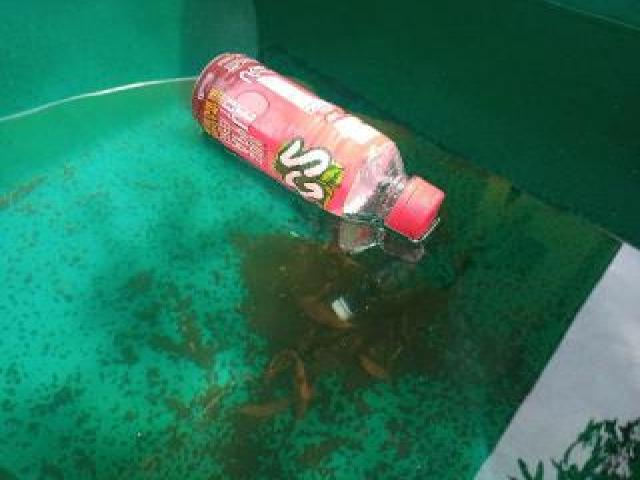Bottle: (182, 47, 458, 248)
